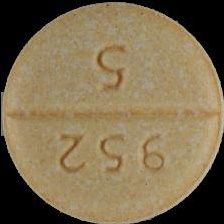35356-387: (0, 0, 224, 224)
